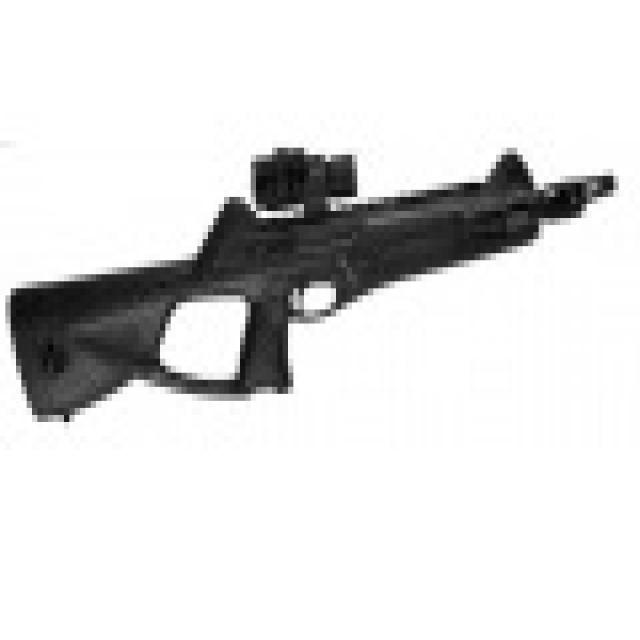Gun: (0, 126, 624, 455)
